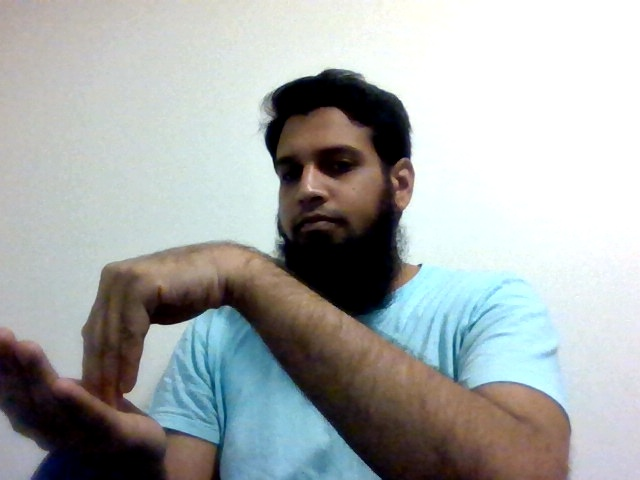again: (1, 237, 254, 474)
